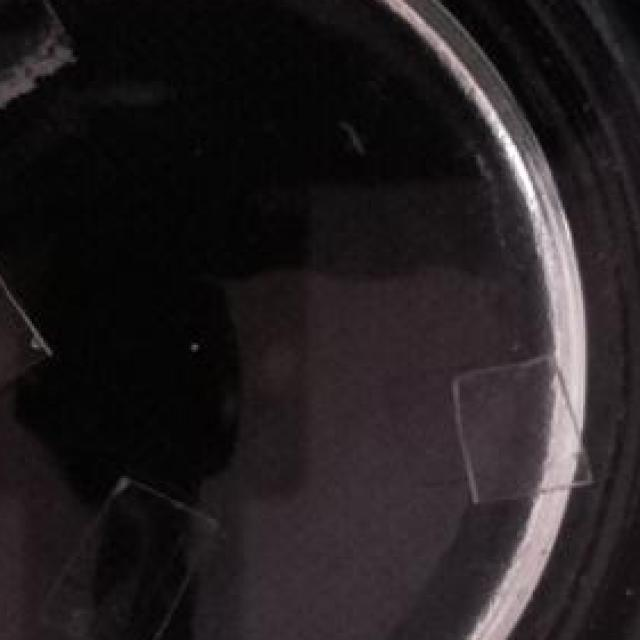Microplastic: (34, 473, 221, 640), (440, 350, 594, 507), (0, 0, 79, 140), (0, 257, 66, 402)
